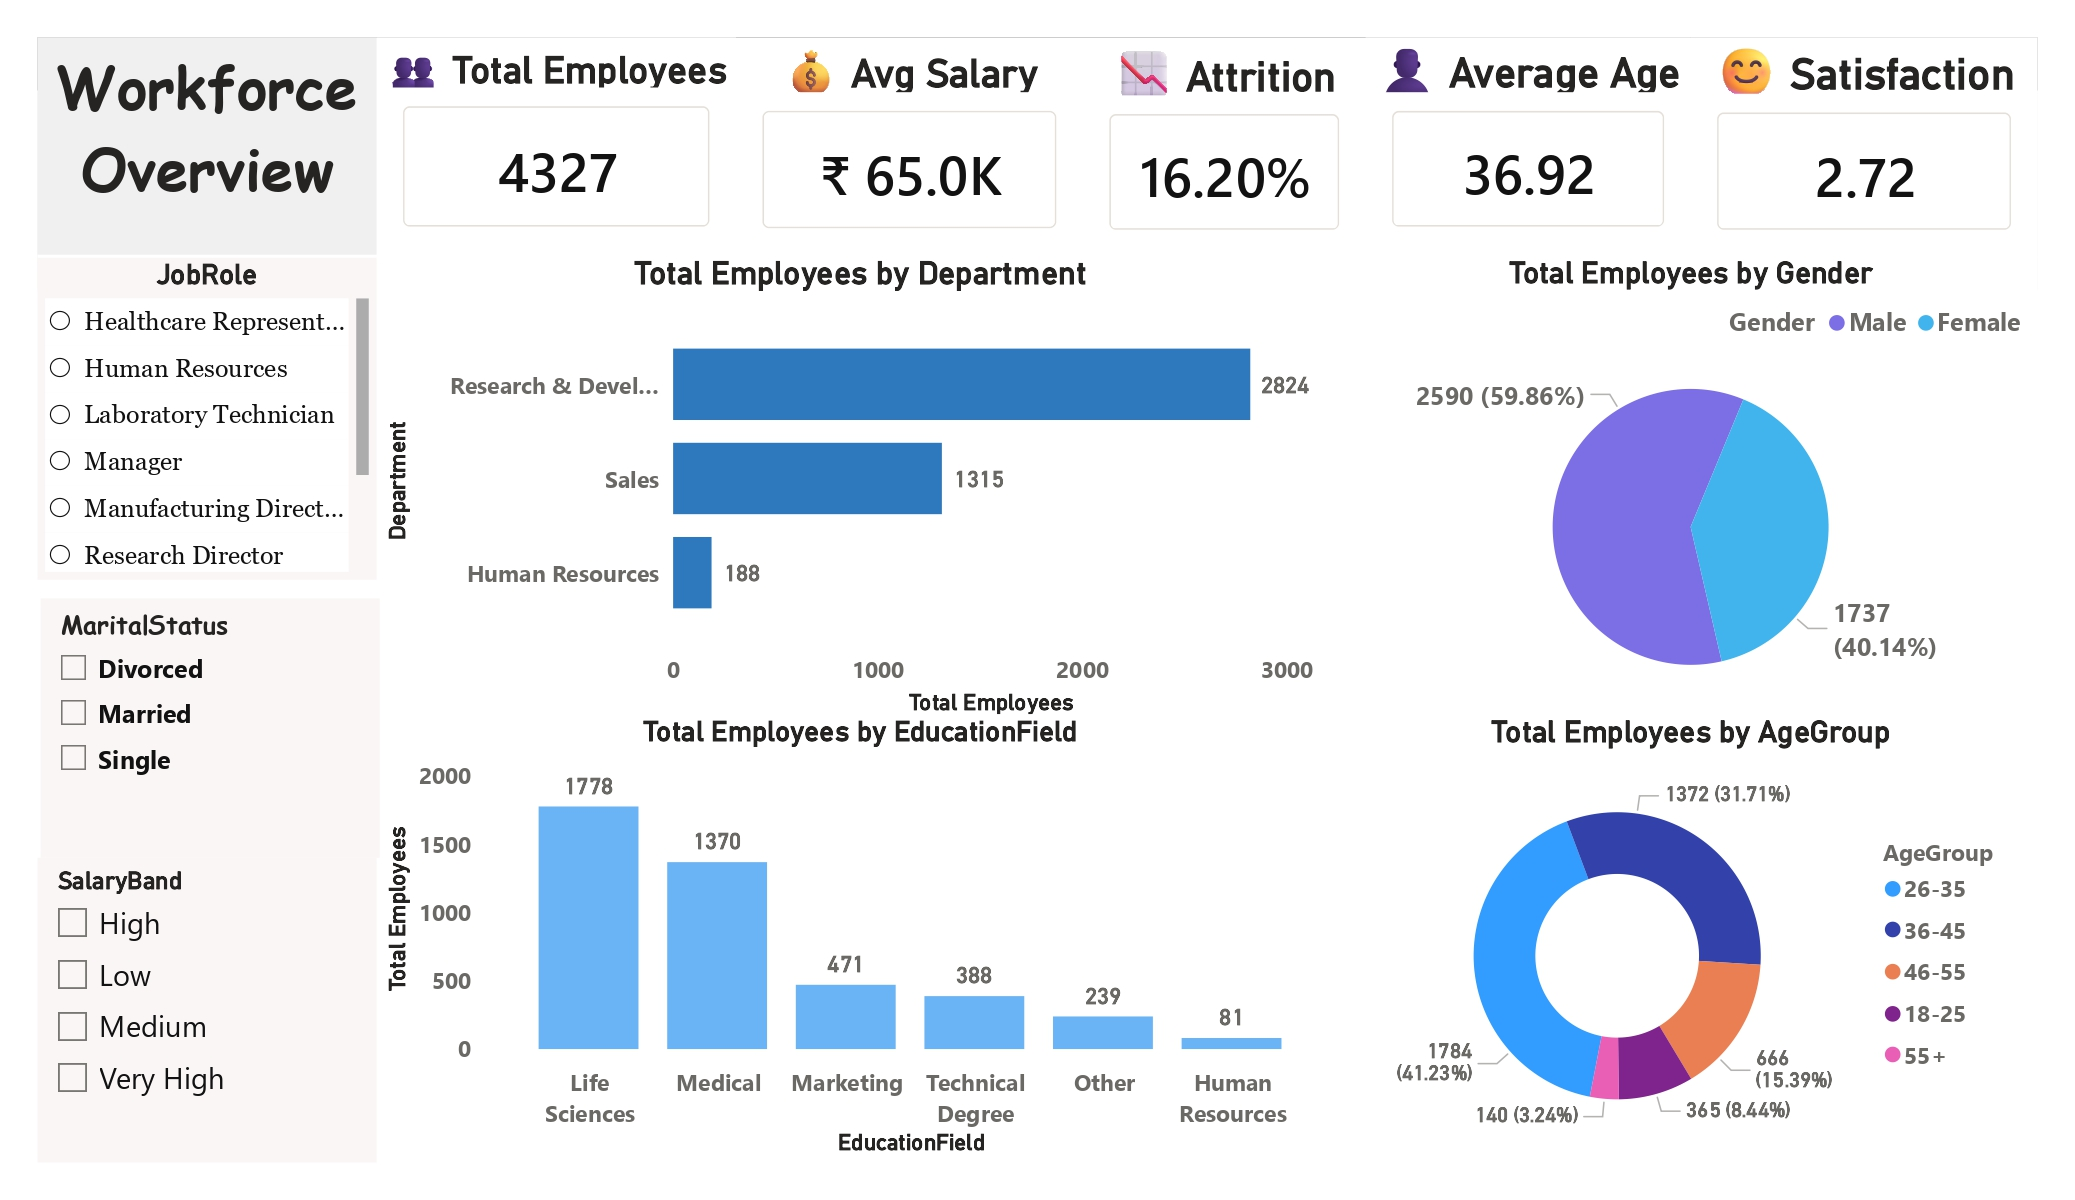

Layout of this report page (visuals, bound fields, positions):
{"tool":"powerbi","page":{"name":"Workforce Overview","canvas":[1280,720],"ordinal":0},"visuals":[{"type":"cardVisual","title":"👥 Total Employees","fields":{"Data":["HR_Analytics_Cleaned.Total Employees"]},"box":[217.2,0,229.7,139.1],"z":0},{"type":"cardVisual","title":"😊 Satisfaction","fields":{"Data":["HR_Analytics_Cleaned.Average Job Satisfaction"]},"box":[1057.8,0,221.9,140.6],"z":1000},{"type":"cardVisual","title":"👤 Average Age","fields":{"Data":["HR_Analytics_Cleaned.Average Age"]},"box":[850,0,207.8,139.1],"z":2000},{"type":"cardVisual","title":"💰 Avg Salary","fields":{"Data":["HR_Analytics_Cleaned.Average Salary"]},"box":[446.9,1.6,221.9,137.5],"z":3000},{"type":"cardVisual","title":"📉 Attrition","fields":{"Data":["HR_Analytics_Cleaned.Attrition Rate"]},"box":[668.8,1.6,181.2,139.1],"z":4000},{"type":"pieChart","fields":{"Category":["HR_Analytics_Cleaned.Gender"],"Y":["HR_Analytics_Cleaned.Total Employees"]},"box":[835.7,138.6,444.3,294.3],"z":5000},{"type":"clusteredBarChart","fields":{"Category":["HR_Analytics_Cleaned.Department"],"Y":["HR_Analytics_Cleaned.Total Employees"]},"box":[217.1,138.6,618.6,300],"z":6000},{"type":"clusteredColumnChart","fields":{"Category":["HR_Analytics_Cleaned.EducationField"],"Y":["HR_Analytics_Cleaned.Total Employees"]},"box":[217.1,432.9,618.6,287.1],"z":7000},{"type":"donutChart","fields":{"Category":["HR_Analytics_Cleaned.AgeGroup"],"Y":["HR_Analytics_Cleaned.Total Employees"]},"box":[835.7,432.9,444.3,287.1],"z":8000},{"type":"listSlicer","fields":{"Values":["HR_Analytics_Cleaned.JobRole"]},"box":[0,140.6,217.2,206.2],"z":9000},{"type":"slicer","fields":{"Values":["HR_Analytics_Cleaned.SalaryBand"]},"box":[0,525,217.2,195.3],"z":10000},{"type":"slicer","fields":{"Values":["HR_Analytics_Cleaned.MaritalStatus"]},"box":[1.6,359.4,217.2,165.6],"z":11000},{"type":"textbox","box":[0,0,217.1,138.6],"z":12000}]}

Visuals, with their boxes on the page's 1280x720 design canvas (x1, y1, x2, y2). These are canvas units, not pixel positions in the 2075x1200 screenshot, which may show the page scaled, cropped or inside an application window:
"👥 Total Employees" cardVisual: bbox=(217, 0, 447, 139)
"😊 Satisfaction" cardVisual: bbox=(1058, 0, 1280, 141)
"👤 Average Age" cardVisual: bbox=(850, 0, 1058, 139)
"💰 Avg Salary" cardVisual: bbox=(447, 2, 669, 139)
"📉 Attrition" cardVisual: bbox=(669, 2, 850, 141)
pieChart - HR_Analytics_Cleaned.Gender x HR_Analytics_Cleaned.Total Employees: bbox=(836, 139, 1280, 433)
clusteredBarChart - HR_Analytics_Cleaned.Department x HR_Analytics_Cleaned.Total Employees: bbox=(217, 139, 836, 439)
clusteredColumnChart - HR_Analytics_Cleaned.EducationField x HR_Analytics_Cleaned.Total Employees: bbox=(217, 433, 836, 720)
donutChart - HR_Analytics_Cleaned.AgeGroup x HR_Analytics_Cleaned.Total Employees: bbox=(836, 433, 1280, 720)
listSlicer - HR_Analytics_Cleaned.JobRole: bbox=(0, 141, 217, 347)
slicer - HR_Analytics_Cleaned.SalaryBand: bbox=(0, 525, 217, 720)
slicer - HR_Analytics_Cleaned.MaritalStatus: bbox=(2, 359, 219, 525)
textbox: bbox=(0, 0, 217, 139)
